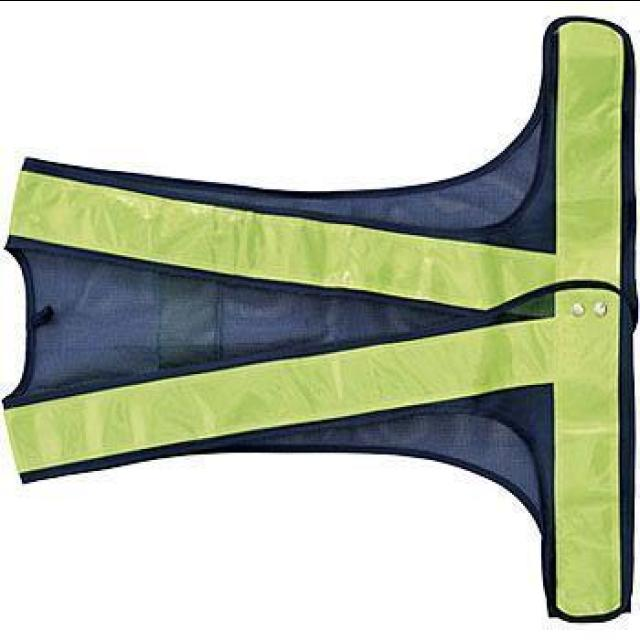jacket: (7, 12, 640, 630)
